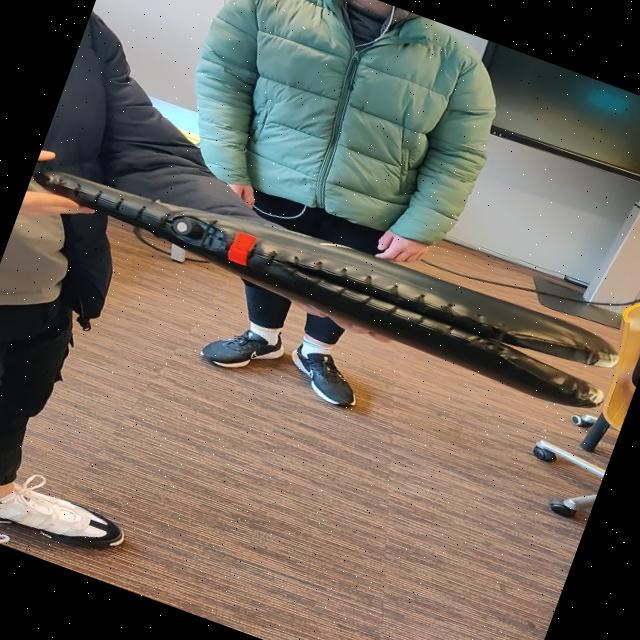paddle: (32, 164, 619, 409)
